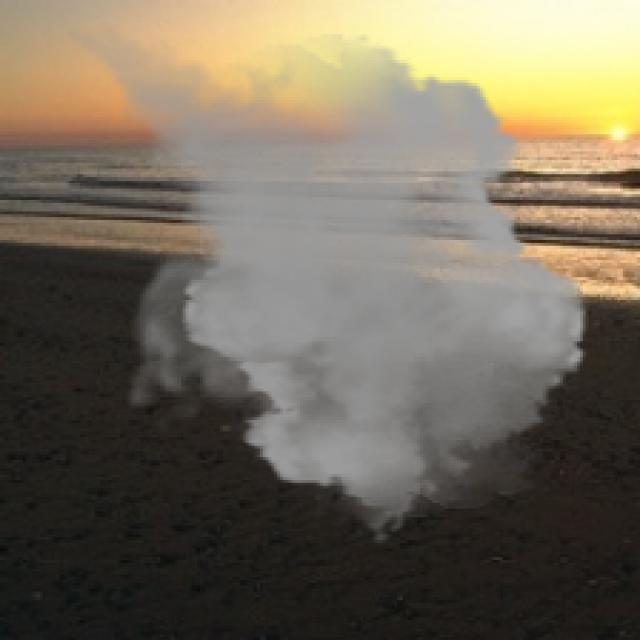smoke: (37, 14, 603, 546)
